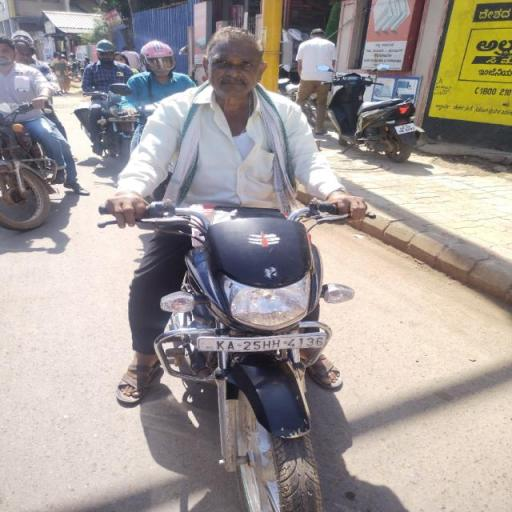bike: (95, 23, 395, 512)
numberplate: (200, 334, 335, 354)
withouthelmet: (209, 29, 264, 92)
